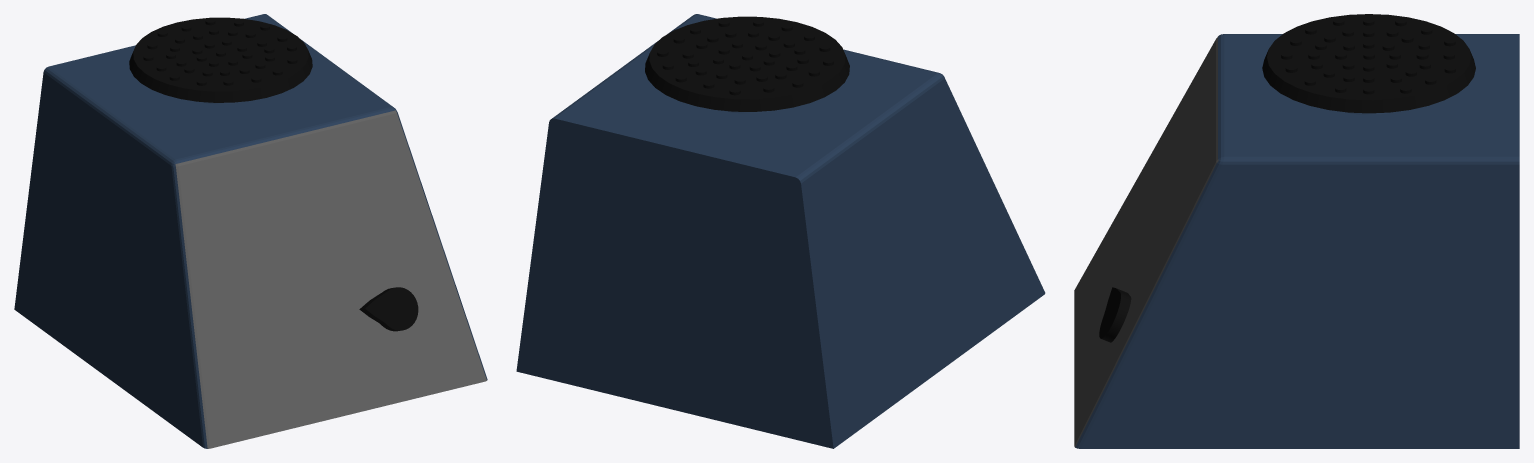
File: vorteex.fbx
3 views of the same model, side by side, from view 1: azimuth 30°, elevation 25°; view 2: azimuth 150°, elevation 25°; view 3: azimuth 270°, elevation 25° (orthographic). The views are drawn at different scales.
Parts seen in each view (by area): view 1: Cube.008, Cylinder.002, Cylinder.004; view 2: Cube.008, Cylinder.002; view 3: Cube.008, Cylinder.002, Cylinder.004.
Boxes of the visible parts, x1,y1,x2,y2 form: Cube.008: (14, 14, 487, 448); Cylinder.002: (129, 17, 312, 102); Cylinder.004: (359, 287, 418, 331); Cube.008: (516, 14, 1045, 448); Cylinder.002: (645, 16, 849, 111); Cube.008: (1074, 34, 1519, 448); Cylinder.002: (1262, 14, 1475, 113); Cylinder.004: (1099, 287, 1131, 342).
Size of the model in its own units: 349 by 318 by 408.
